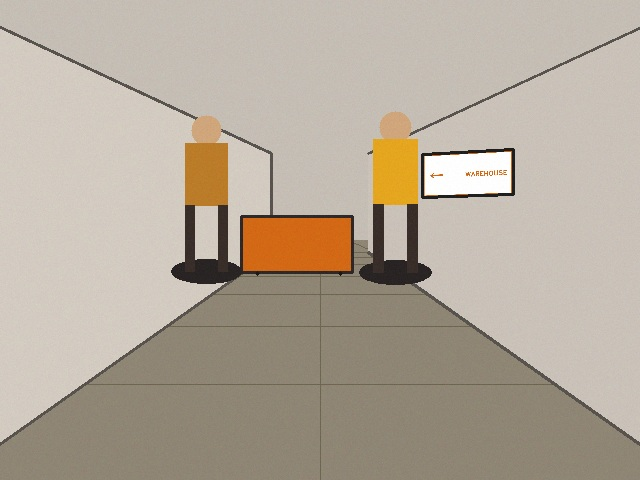cart: (241, 216, 352, 272)
directional_sign: (422, 149, 513, 197)
person: (363, 111, 427, 272), (175, 115, 237, 271)
